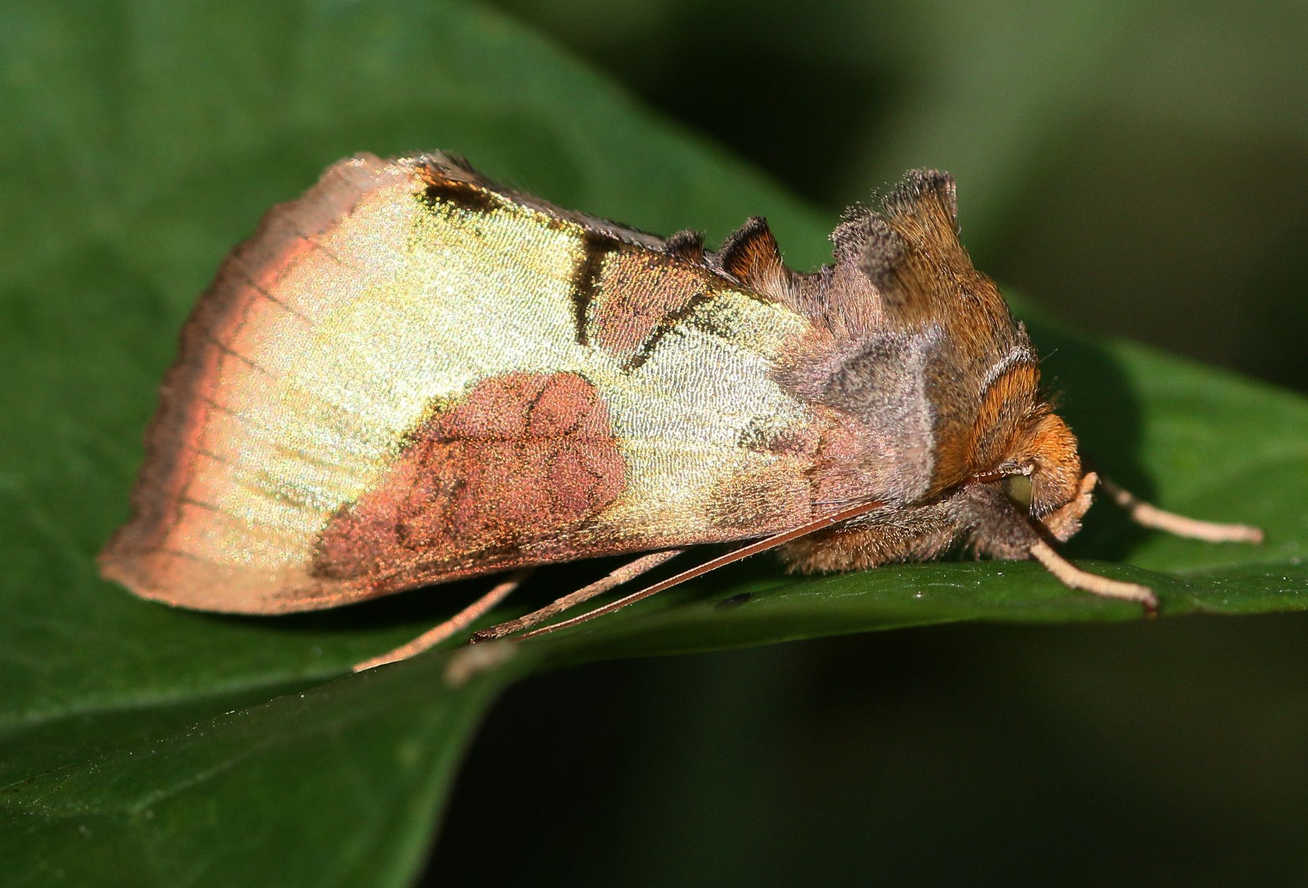Noctuidae: (98, 141, 1259, 681)
